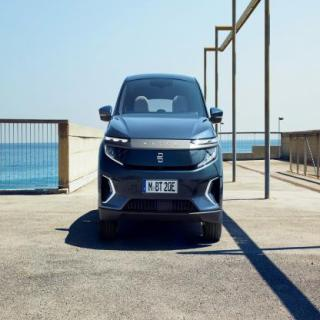Normal_vehicle: (98, 74, 222, 241)
